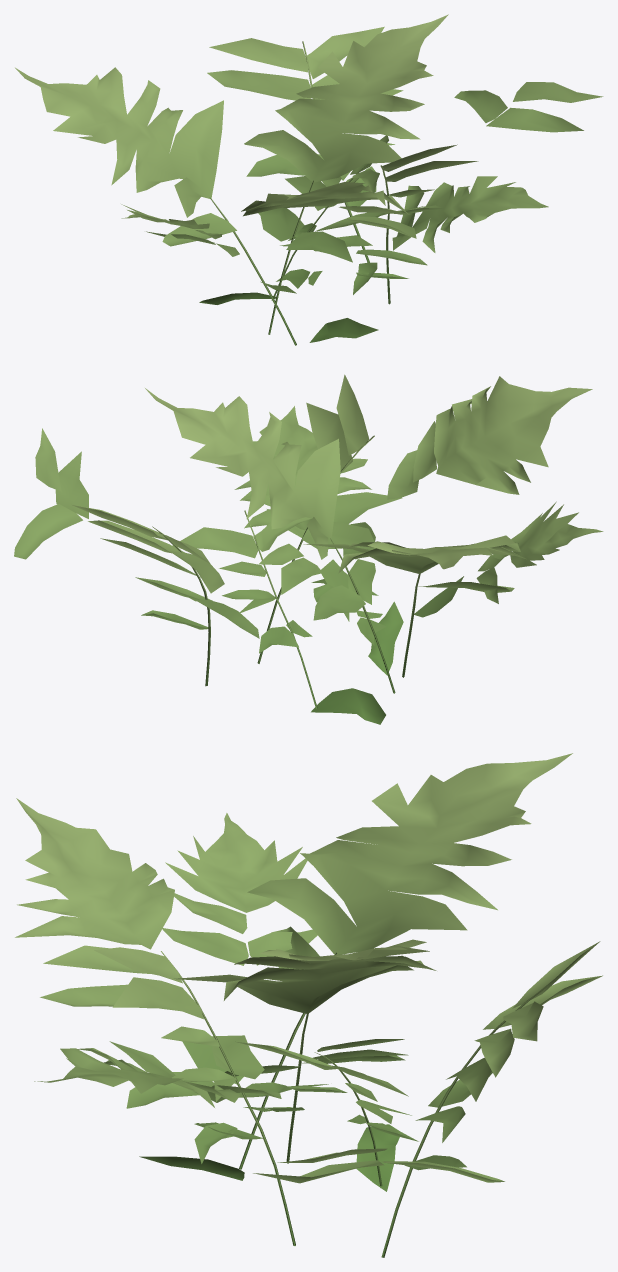
File: Fern Lush C.glb
3 views of the same model, one above another, from view 1: azimuth 30°, elevation 25°; view 2: azimuth 150°, elevation 25°; view 3: azimuth 270°, elevation 25° (orthographic). The views are drawn at different scales.
Parts seen in each view (by area): view 1: Fern Lush C; view 2: Fern Lush C; view 3: Fern Lush C.
Part boxes in pixels (bbox=[...]): Fern Lush C: bbox=[15, 14, 603, 345]; Fern Lush C: bbox=[14, 374, 603, 724]; Fern Lush C: bbox=[15, 753, 602, 1257].
Size of the model in its own units: 1.12 by 0.5393 by 0.8369.
